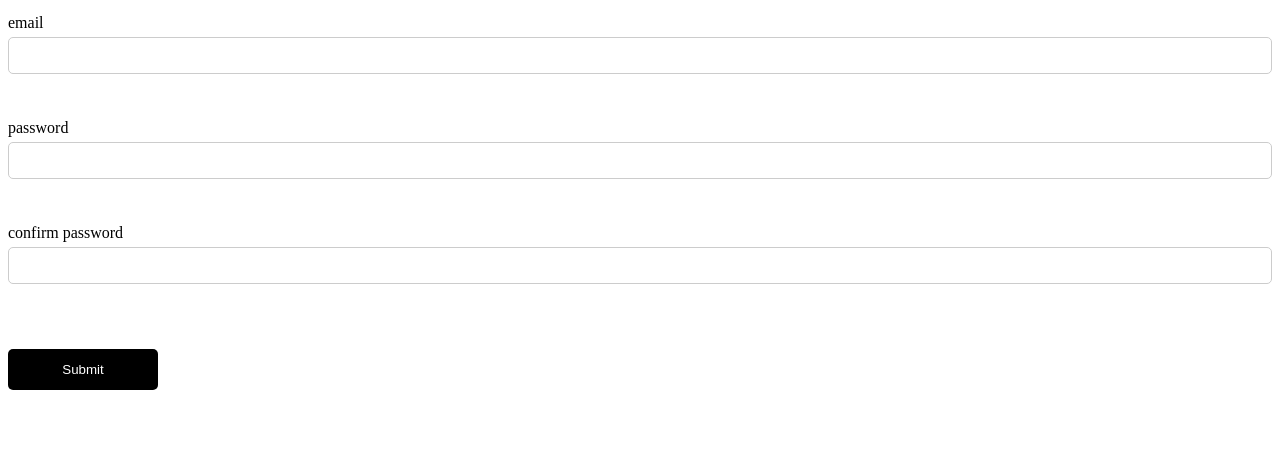
Form Tests › Error › email empty error
The image size is (1280, 462).
What coordinates should you click on to do the following:
click the button "Submit"
I would click on:
 (83, 370)
Its box is [8,349,158,390].
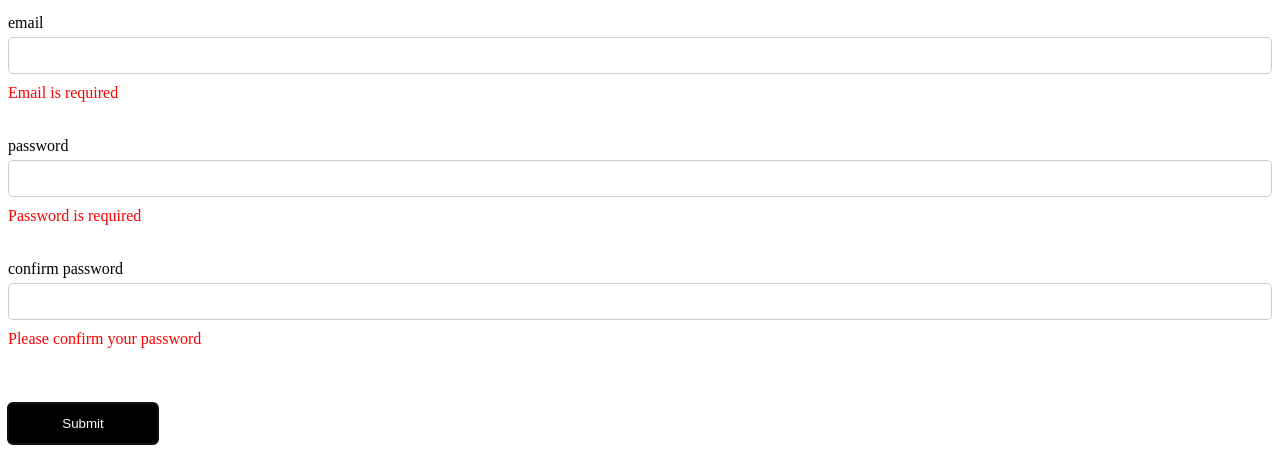
Now the text "Email is required" is shown, box [8,84,118,101]
